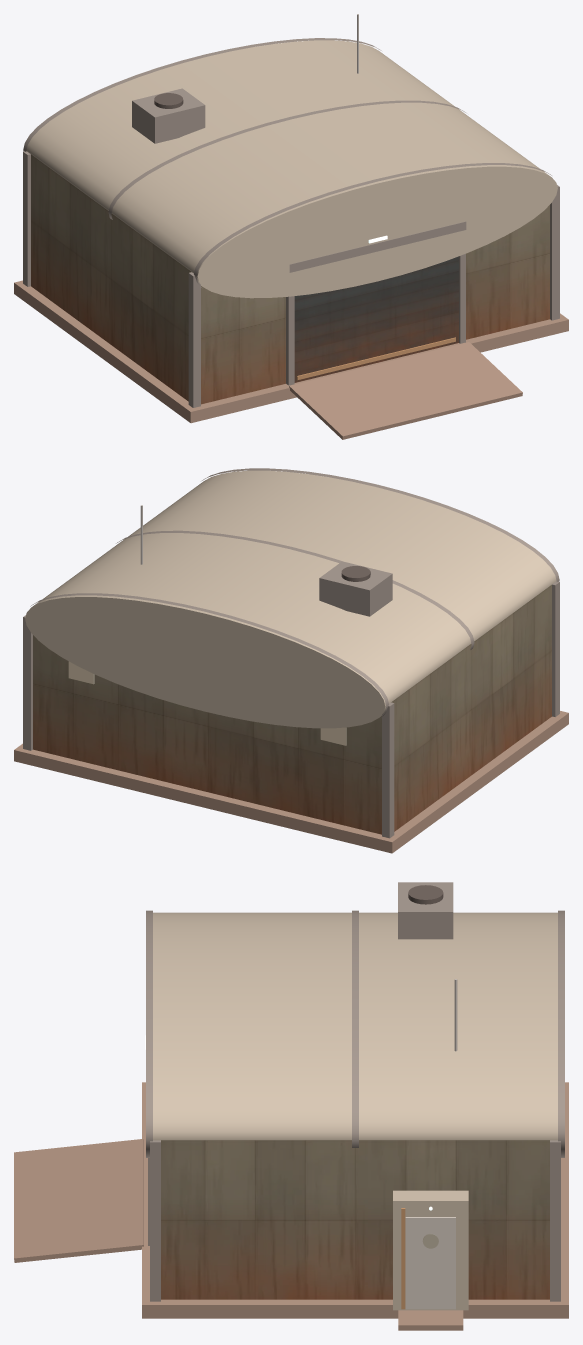
The model's file is I01_rover_garage_1door.glb.
The picture shows the model from 3 angles, top to bottom: view 1: azimuth 30°, elevation 25°; view 2: azimuth 150°, elevation 25°; view 3: azimuth 270°, elevation 25°; orthographic projection. The views are drawn at different scales.
Parts seen in each view (by area): view 1: hall, foundation_slab, roof_rib, door_slats; view 2: hall, roof_rib, foundation_slab, door_window; view 3: hall, foundation_slab, roof_rib.
Boxes of the visible parts, bbox=[...] form: hall: bbox=[26, 40, 557, 404]; foundation_slab: bbox=[14, 280, 568, 439]; roof_rib: bbox=[23, 38, 559, 407]; door_slats: bbox=[294, 256, 458, 382]; hall: bbox=[25, 470, 556, 834]; roof_rib: bbox=[23, 468, 559, 838]; foundation_slab: bbox=[14, 711, 568, 853]; door_window: bbox=[68, 661, 346, 745]; hall: bbox=[153, 885, 557, 1310]; foundation_slab: bbox=[14, 1082, 568, 1330]; roof_rib: bbox=[146, 882, 564, 1301].
Size of the model in its own units: 11.45 by 6.46 by 11.05.
8 materials, 2 textured.
